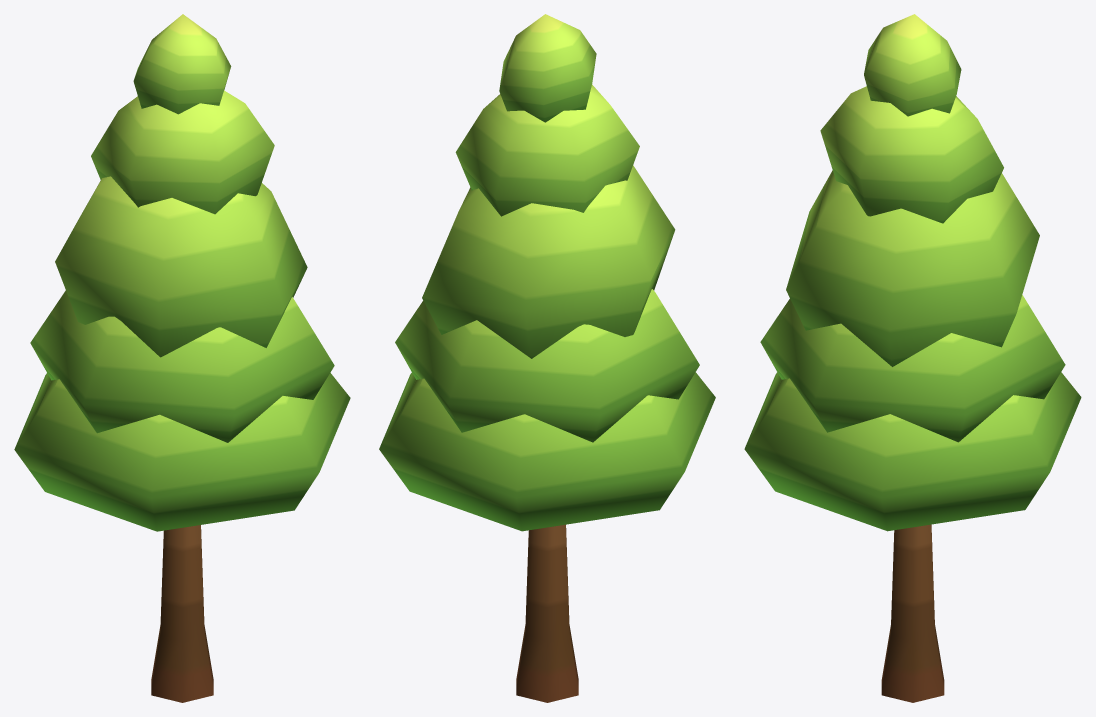
The model's file is tree_005.fbx.
3 views of the same model, side by side, from view 1: azimuth 30°, elevation 25°; view 2: azimuth 150°, elevation 25°; view 3: azimuth 270°, elevation 25° (orthographic).
Visible parts, largest first — view 1: tree.005; view 2: tree.005; view 3: tree.005.
Part boxes in pixels (box(x1,y1,x2,y2)): tree.005: box(14, 14, 350, 702); tree.005: box(379, 14, 715, 702); tree.005: box(744, 14, 1081, 702).
Bounding box in the file's own units: 34.95 × 73.61 × 33.35.
